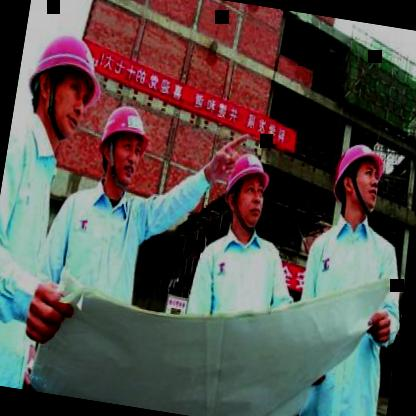helmet: (17, 26, 108, 136), (89, 102, 152, 196), (323, 140, 390, 226), (214, 150, 277, 238)
